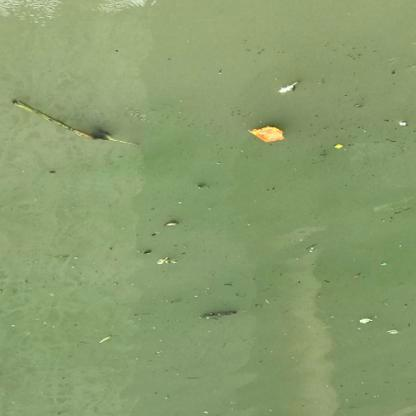Trash: (252, 118, 287, 146)
